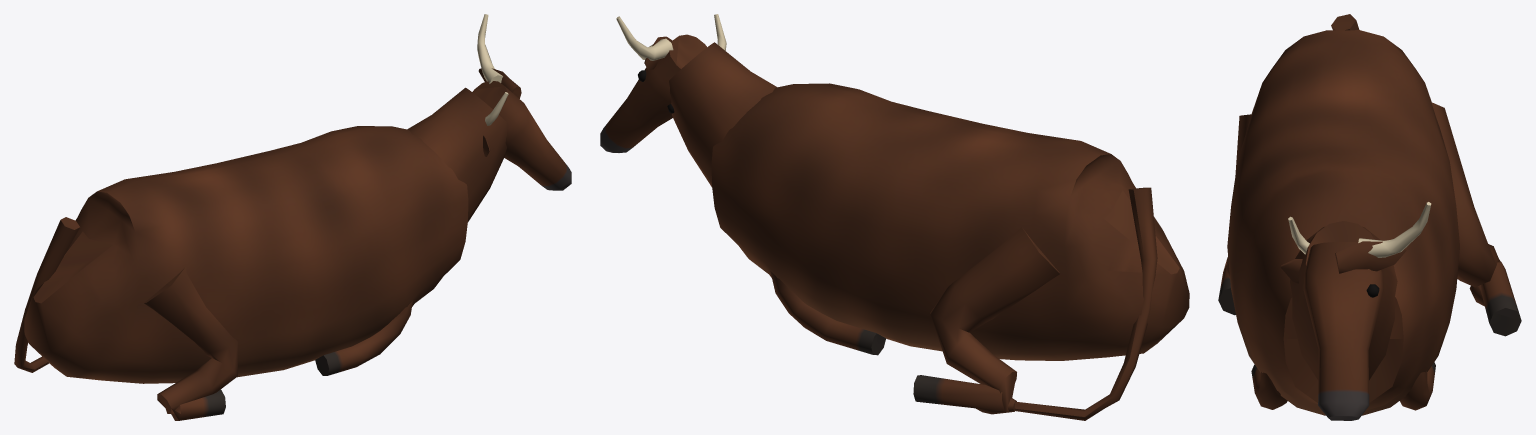
File: tpl_life_stall_1450_cow_2_cattle_brown_lie_h.glb
3 renders of one model, left to right at view 1: azimuth 30°, elevation 25°; view 2: azimuth 150°, elevation 25°; view 3: azimuth 270°, elevation 25°, orthographic. The views are drawn at different scales.
Visible parts, largest first — view 1: tpl_life_stall_1450_cow_2_cattle_brown_lie_h; view 2: tpl_life_stall_1450_cow_2_cattle_brown_lie_h; view 3: tpl_life_stall_1450_cow_2_cattle_brown_lie_h.
Part boxes in pixels (left/top/right/bottom): tpl_life_stall_1450_cow_2_cattle_brown_lie_h: left=14, top=14, right=571, bottom=420; tpl_life_stall_1450_cow_2_cattle_brown_lie_h: left=600, top=14, right=1189, bottom=420; tpl_life_stall_1450_cow_2_cattle_brown_lie_h: left=1218, top=14, right=1521, bottom=420.
Bounding box in the file's own units: 2.32 × 1.08 × 0.9187.
3 materials, 1 textured.
